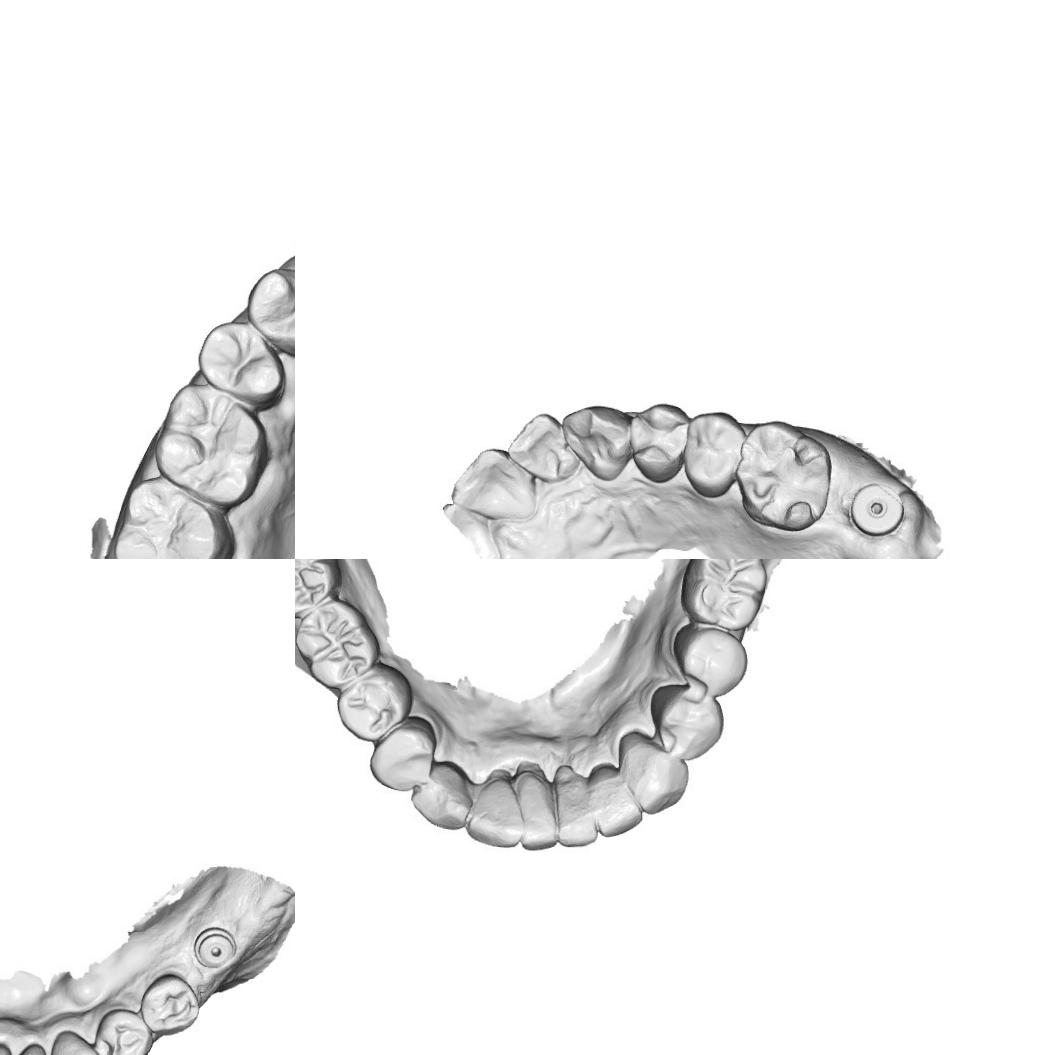canine: (561, 400, 639, 484), (620, 734, 692, 812), (412, 757, 470, 827), (47, 1028, 103, 1055)
implant: (844, 472, 912, 548), (188, 914, 246, 982)
incisor: (450, 445, 540, 518), (503, 410, 577, 482), (510, 762, 564, 852), (550, 764, 604, 846), (588, 763, 646, 839), (466, 771, 522, 849), (5, 1040, 55, 1055)
molar: (156, 384, 270, 498), (733, 420, 834, 534), (115, 476, 239, 559), (296, 602, 379, 687), (682, 559, 774, 632), (295, 559, 333, 613)
premolar: (196, 318, 284, 400), (364, 713, 438, 795), (684, 410, 748, 500), (674, 622, 748, 694), (652, 683, 723, 757), (632, 400, 692, 480), (139, 970, 207, 1040), (341, 666, 404, 740), (244, 264, 295, 350), (93, 1003, 151, 1055)
